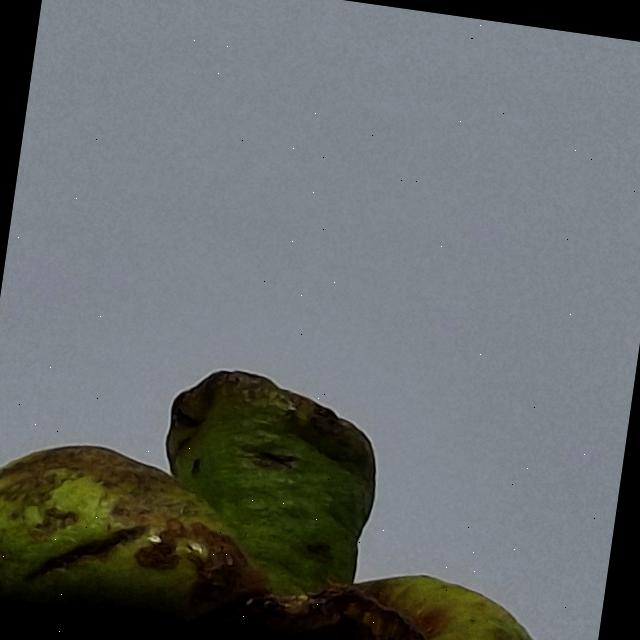mangosteen: (0, 305, 632, 640)
